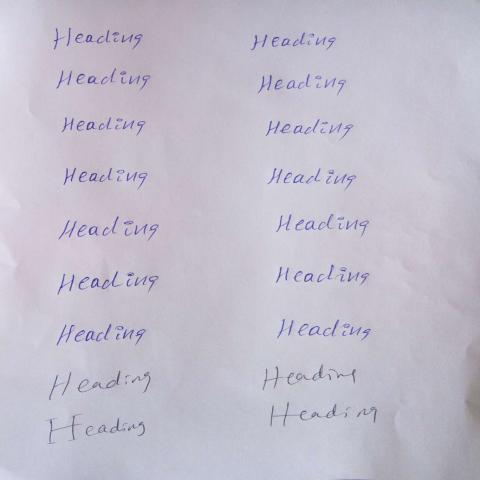Heading: (45, 414, 147, 447), (49, 370, 152, 402), (269, 402, 379, 428), (58, 216, 160, 243), (57, 271, 159, 297), (262, 365, 358, 392), (276, 212, 370, 239), (56, 323, 148, 349), (56, 68, 152, 92), (53, 28, 145, 52), (275, 264, 371, 287), (276, 319, 372, 342), (267, 168, 358, 192), (257, 74, 347, 97), (62, 168, 150, 191), (266, 119, 355, 140), (61, 116, 147, 137), (250, 33, 337, 53)
